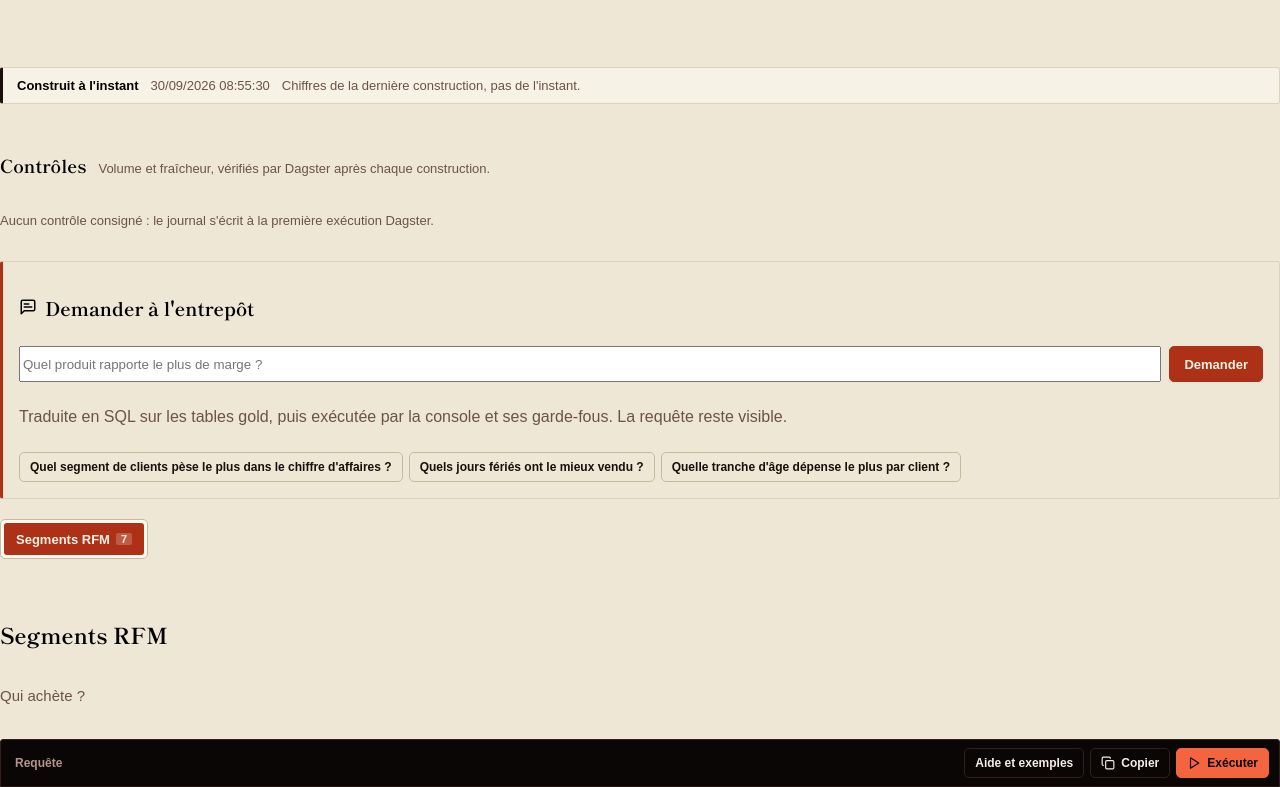
it: Demander à l'entrepôt › montre l'explication, le résultat et le SQL exécuté
In the field named "question sur l'activité": (590,364) [19,346,1161,382], type "Quel segment pèse le plus ?"
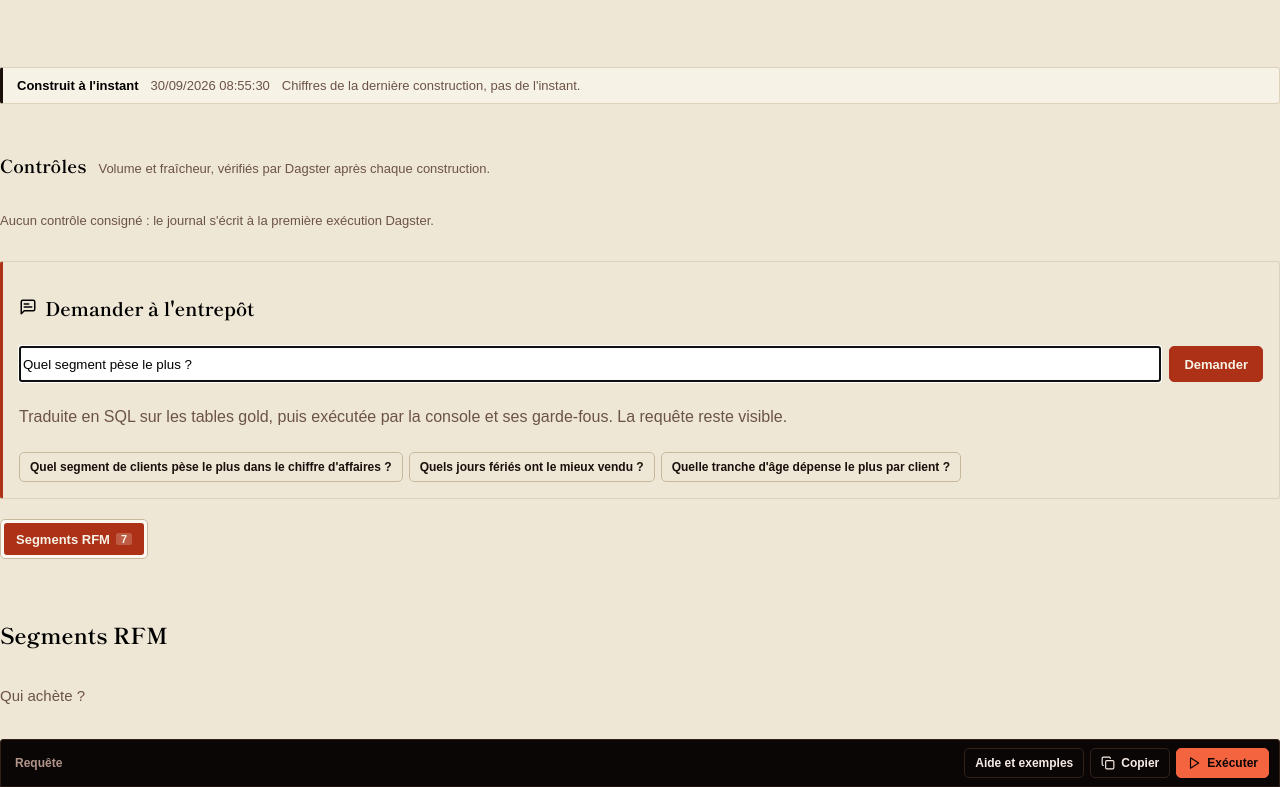
Click the button "Demander": (1216,364) [1169,346,1263,382]
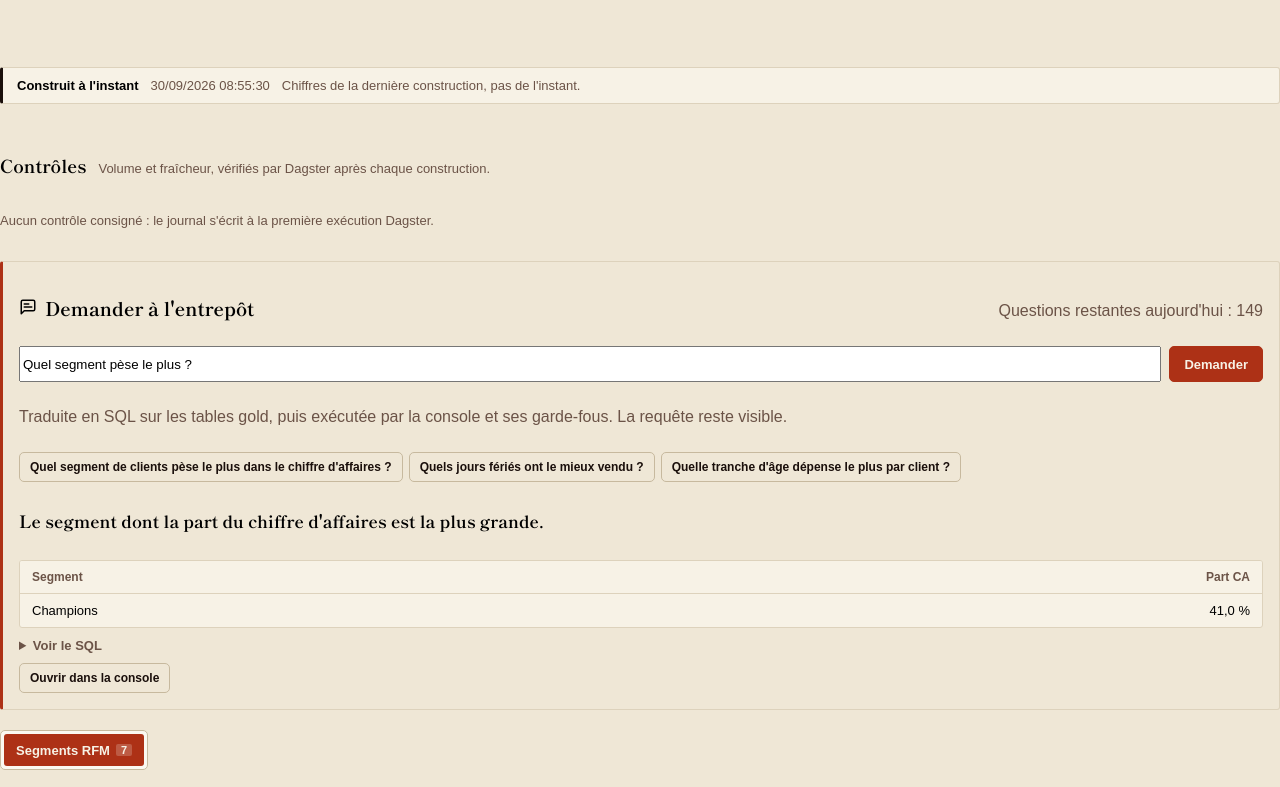
Check: the text "la part du chiffre d'affaires est la plus grande" is shown, box [19,508,544,533]
Check: the text "Champions" is shown, box [20,594,727,627]
Check: the heading "Voir le SQL" is shown, box [33,638,102,653]
